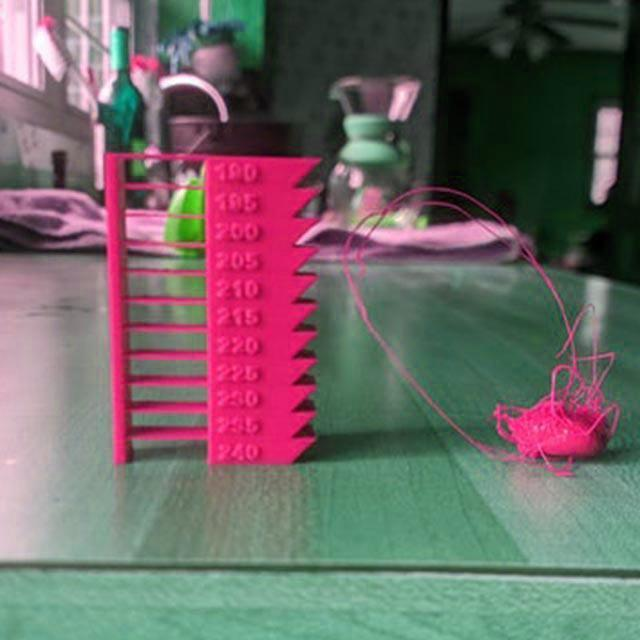spaghetti: (335, 163, 627, 480)
